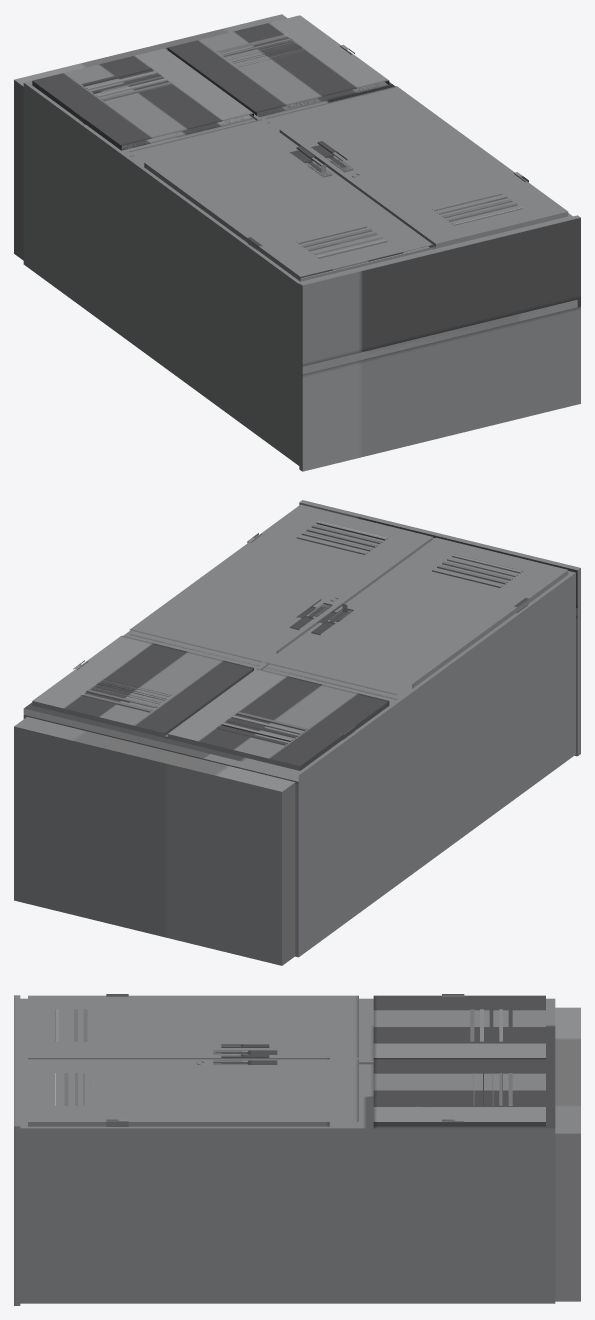
3 views of the same model, one above another, from view 1: azimuth 30°, elevation 25°; view 2: azimuth 150°, elevation 25°; view 3: azimuth 270°, elevation 25° (orthographic). The views are drawn at different scales.
Size of the model in its own units: 0.971 by 0.656 by 1.77.
